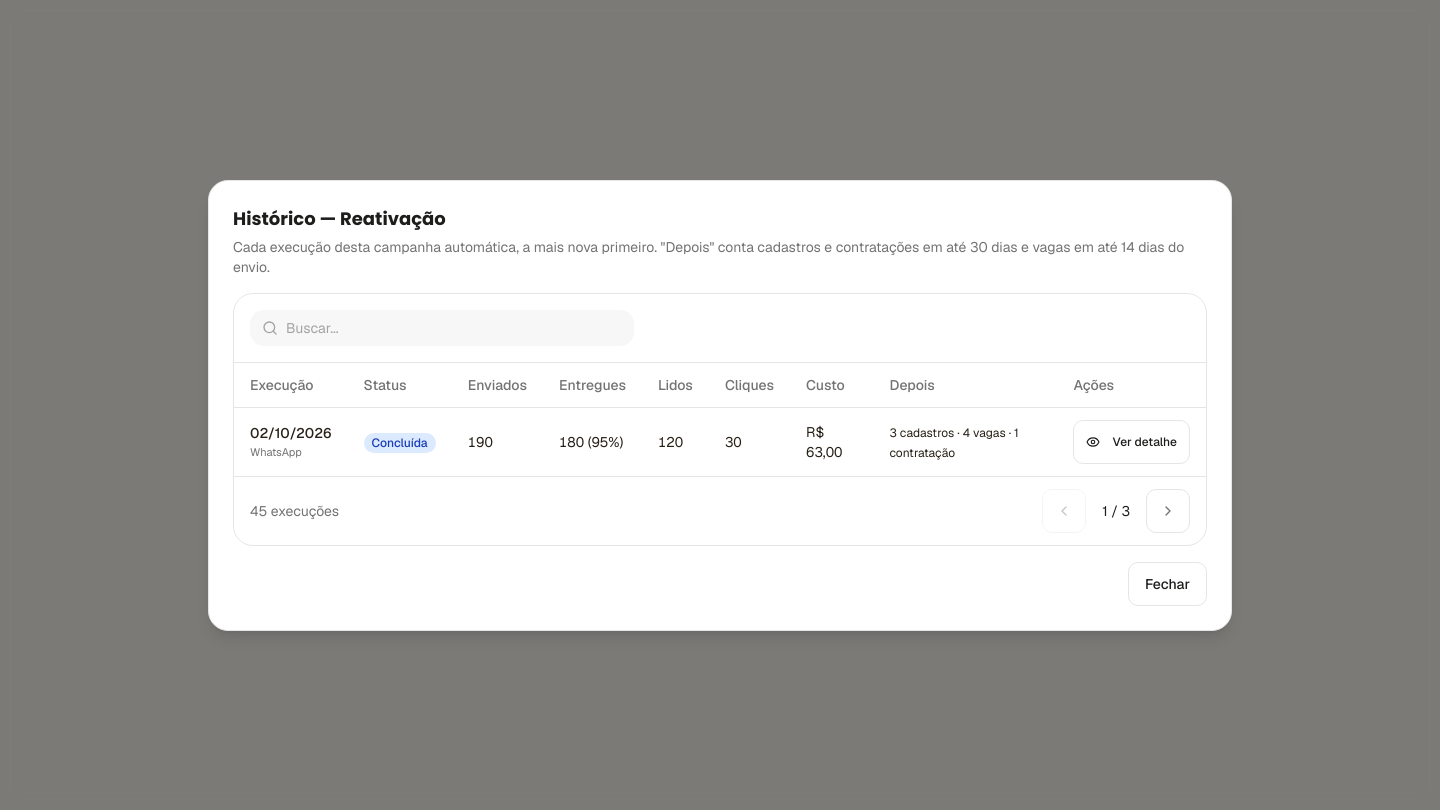
Test: AutomaticRunsDialog (spec 2026-10-01 parte 2 §7/§8.5) › paginação: Próxima página pede a página 2
The image size is (1440, 810).
Step 1. Click the button named "Próxima página" → click(1168, 510), box left=1146, top=488, right=1190, bottom=532
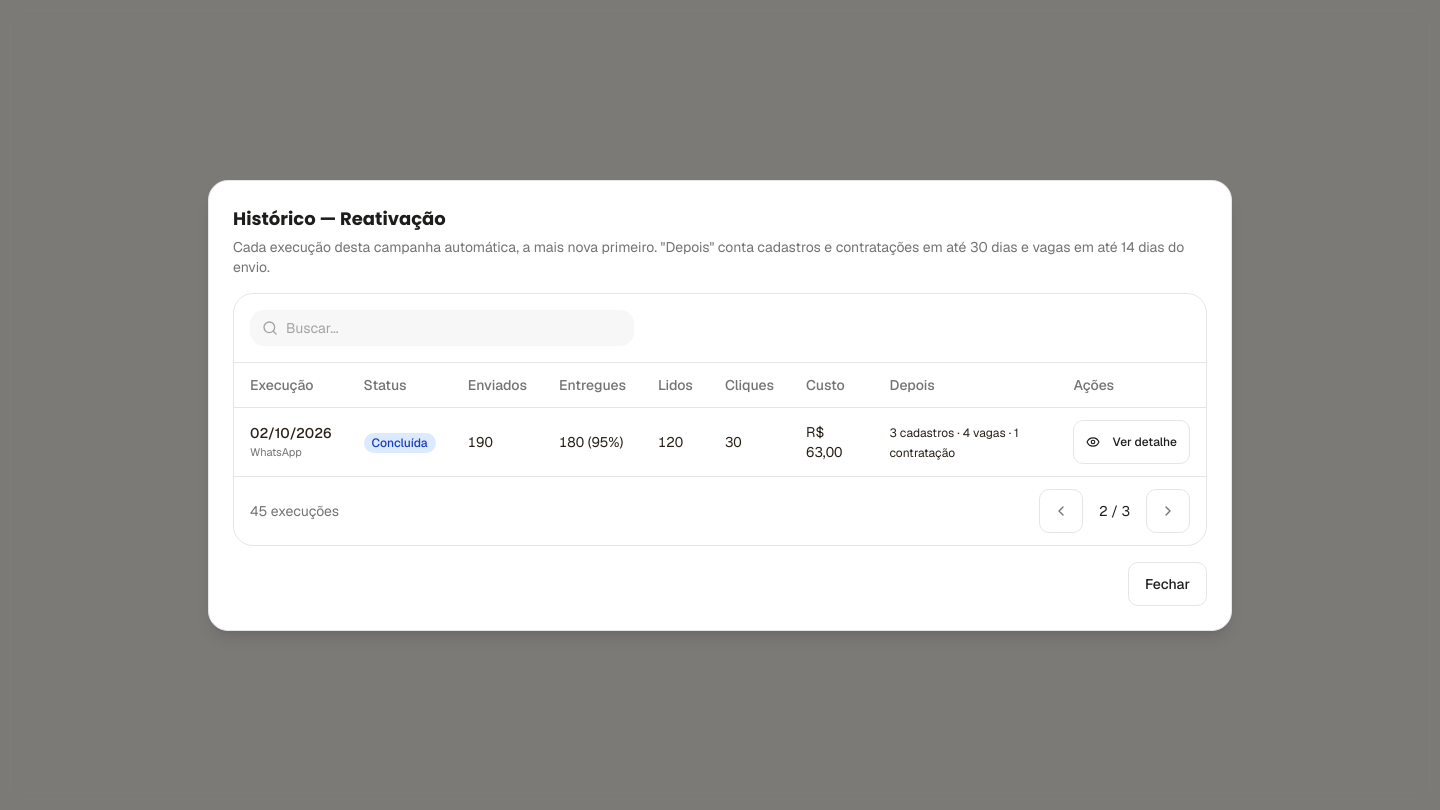
Expected: the text "2 / 3" is shown, left=1099, top=502, right=1130, bottom=520
